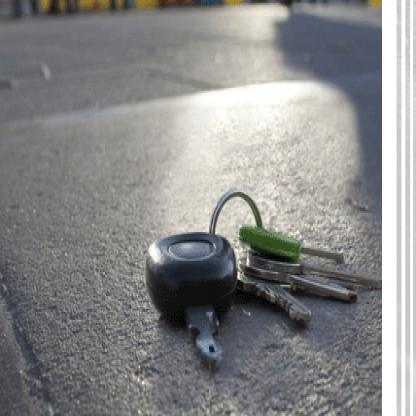keys: (148, 198, 387, 366)
